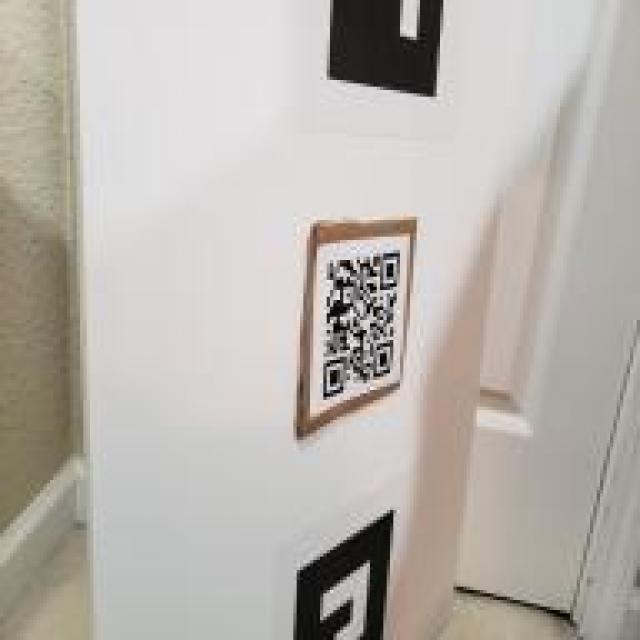QR_CODE: (310, 240, 403, 407)
